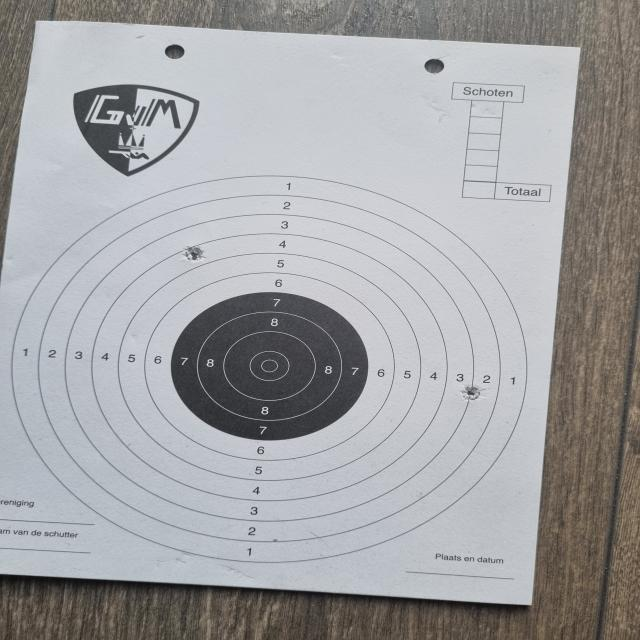3: (460, 385, 482, 403)
4: (178, 245, 206, 262)
Target: (11, 175, 529, 564)
black_contour: (171, 292, 368, 441)
